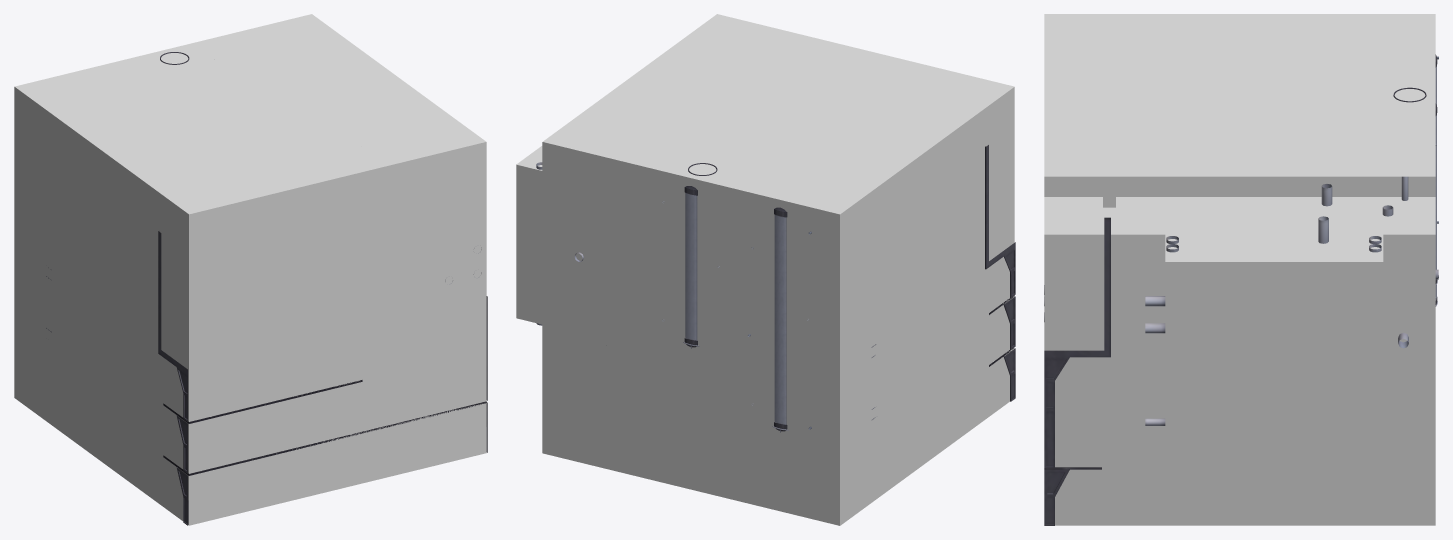
File: Factory.fbx
The picture shows the model from 3 angles, left to right: view 1: azimuth 30°, elevation 25°; view 2: azimuth 150°, elevation 25°; view 3: azimuth 270°, elevation 25°; orthographic projection. The views are drawn at different scales.
Parts seen in each view (by area): view 1: A05_BaseBox, A03_Path05; view 2: A05_BaseBox, A08_Tank, A03_Path05; view 3: A05_BaseBox, A03_Path05, A09_Pipe, A08_Tank.
Boxes of the visible parts, box(x1,y1,x2,y2) form: A05_BaseBox: box(14, 14, 486, 525); A03_Path05: box(158, 231, 487, 525); A05_BaseBox: box(516, 14, 1014, 525); A08_Tank: box(683, 163, 788, 432); A03_Path05: box(985, 145, 1015, 401); A05_BaseBox: box(1044, 14, 1435, 525); A03_Path05: box(1044, 217, 1110, 525); A09_Pipe: box(1044, 56, 1438, 425); A08_Tank: box(1393, 54, 1437, 306).
Size of the model in its own units: 35.1 by 30.16 by 30.78.
